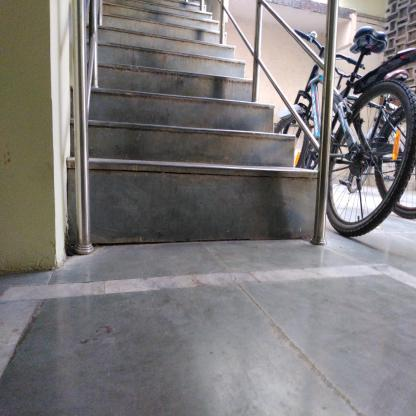stairs: (102, 45, 238, 261)
